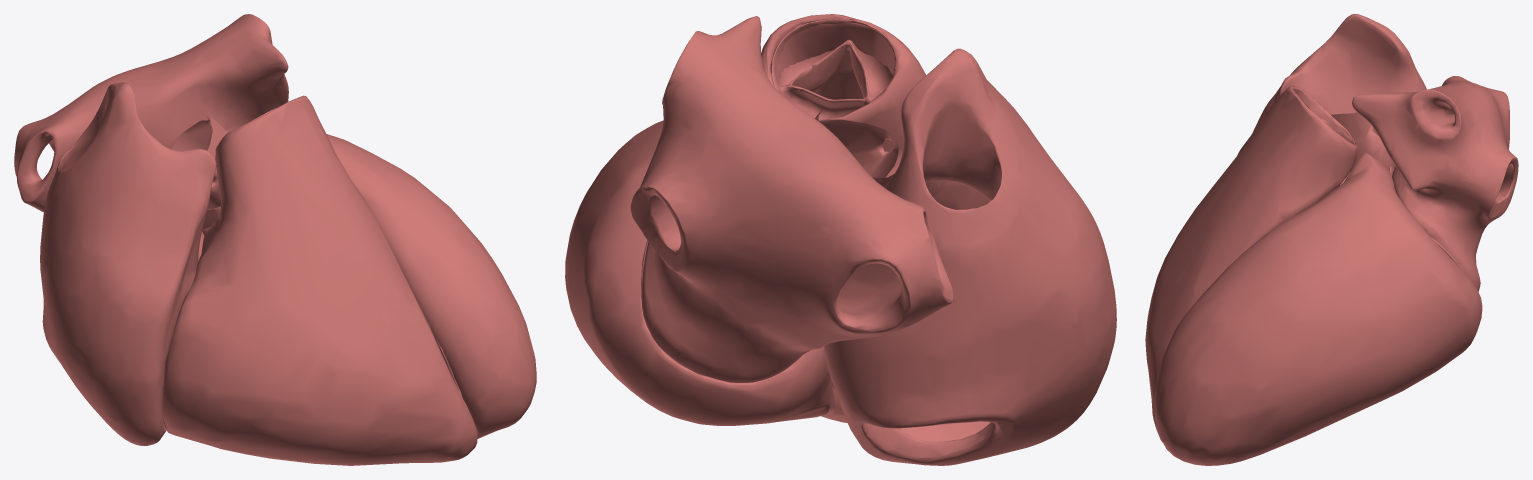
The model's file is heart-male.lod1.glb.
The picture shows the model from 3 angles, left to right: view 1: azimuth 30°, elevation 25°; view 2: azimuth 150°, elevation 25°; view 3: azimuth 270°, elevation 25°; orthographic projection. The views are drawn at different scales.
Parts seen in each view (by area): view 1: VH_M_heart_right_ventricle, VH_M_right_cardiac_atrium, VH_M_heart_left_ventricle, VH_M_left_cardiac_atrium, VH_M_aortic_valve; view 2: VH_M_left_cardiac_atrium, VH_M_right_cardiac_atrium, VH_M_heart_left_ventricle, VH_M_heart_right_ventricle, VH_M_pulmonary_valve, VH_M_aortic_valve; view 3: VH_M_heart_left_ventricle, VH_M_heart_right_ventricle, VH_M_left_cardiac_atrium, VH_M_right_cardiac_atrium, VH_M_aortic_valve.
Part boxes in pixels (x1,y1,x2,y2): VH_M_heart_right_ventricle: (162,95,477,465); VH_M_right_cardiac_atrium: (40,82,216,445); VH_M_heart_left_ventricle: (202,134,536,438); VH_M_left_cardiac_atrium: (14,14,288,212); VH_M_aortic_valve: (170,113,228,209); VH_M_left_cardiac_atrium: (630,16,953,382); VH_M_right_cardiac_atrium: (824,48,1116,465); VH_M_heart_left_ventricle: (565,120,831,425); VH_M_heart_right_ventricle: (761,14,926,422); VH_M_pulmonary_valve: (770,19,895,119); VH_M_aortic_valve: (815,108,898,188); VH_M_heart_left_ventricle: (1154,152,1482,465); VH_M_heart_right_ventricle: (1145,86,1357,442); VH_M_left_cardiac_atrium: (1352,76,1518,291); VH_M_right_cardiac_atrium: (1237,14,1426,155); VH_M_aortic_valve: (1331,112,1395,169).
Size of the model in its own units: 0.1243 by 0.1053 by 0.1052.
